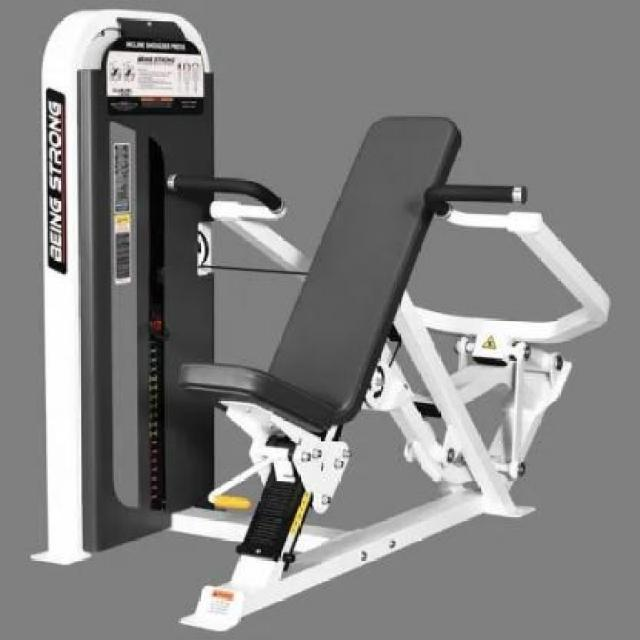shoulder press machine: (42, 9, 612, 628)
